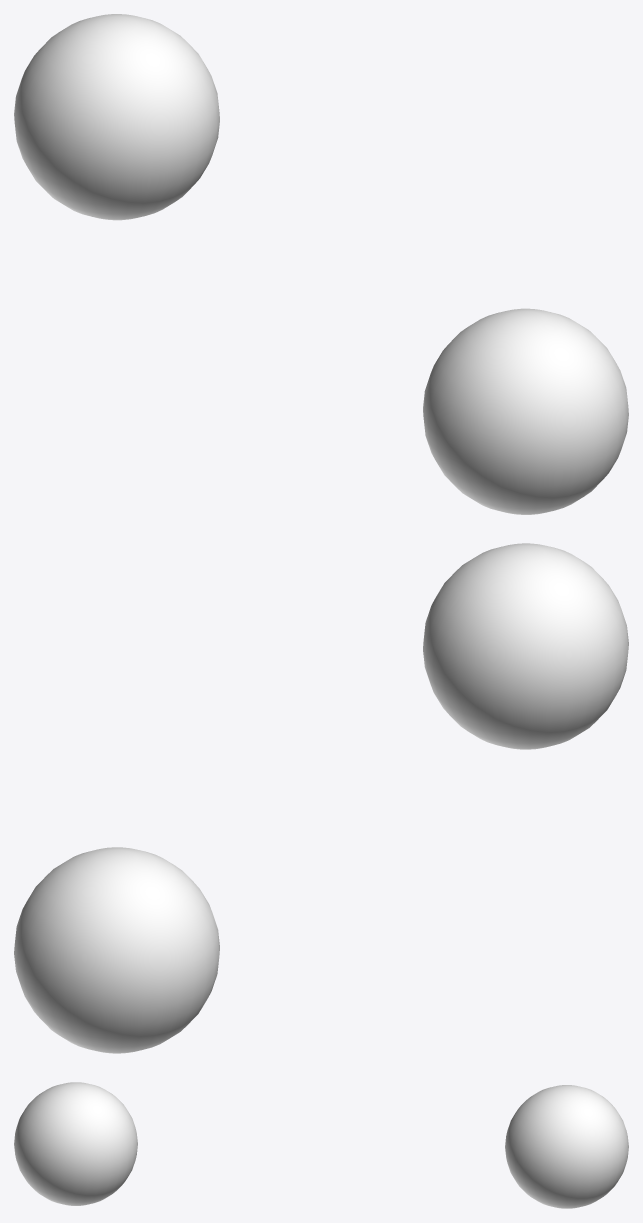
The model's file is o_high4_eyes.glb.
3 renders of one model, top to bottom at view 1: azimuth 30°, elevation 25°; view 2: azimuth 150°, elevation 25°; view 3: azimuth 270°, elevation 25°, orthographic. The views are drawn at different scales.
Parts seen in each view (by area): view 1: Sphere, Sphere.001; view 2: Sphere, Sphere.001; view 3: Sphere, Sphere.001.
Part boxes in pixels (bbox=[...]): Sphere: bbox=[423, 308, 628, 514]; Sphere.001: bbox=[14, 14, 219, 220]; Sphere: bbox=[423, 543, 628, 749]; Sphere.001: bbox=[14, 847, 219, 1053]; Sphere: bbox=[14, 1082, 137, 1205]; Sphere.001: bbox=[505, 1085, 628, 1208].
Size of the model in its own units: 2 by 2.05 by 9.92.
Materials: 1 (1 with a texture image).
